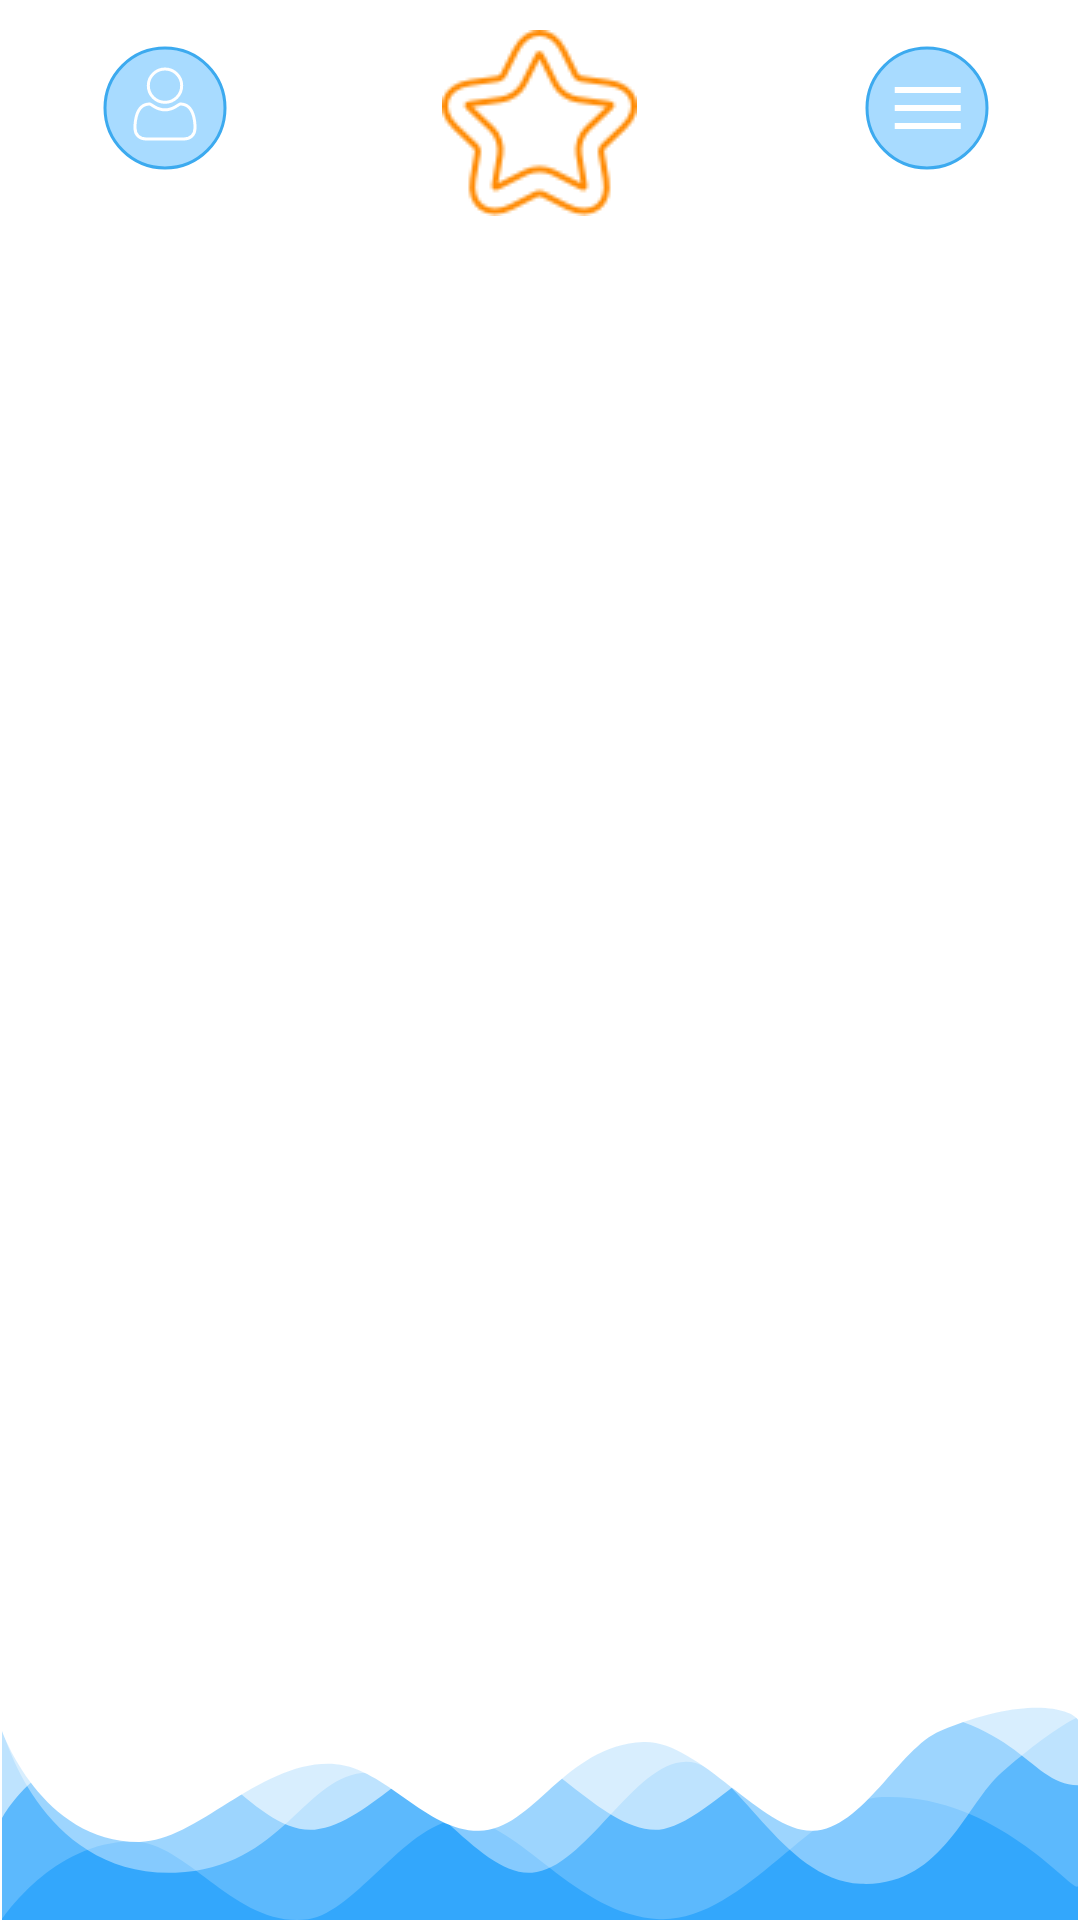

Where to tap for icons on this 1080×1920 app screen, as [x,y]:
gotoprofile: [165,108]
iconfavoriteorange: [539,123]
